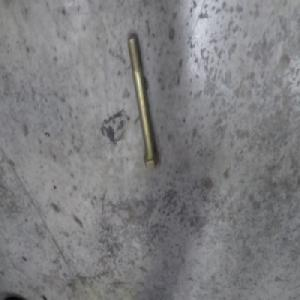Bolt: (127, 38, 161, 174)
